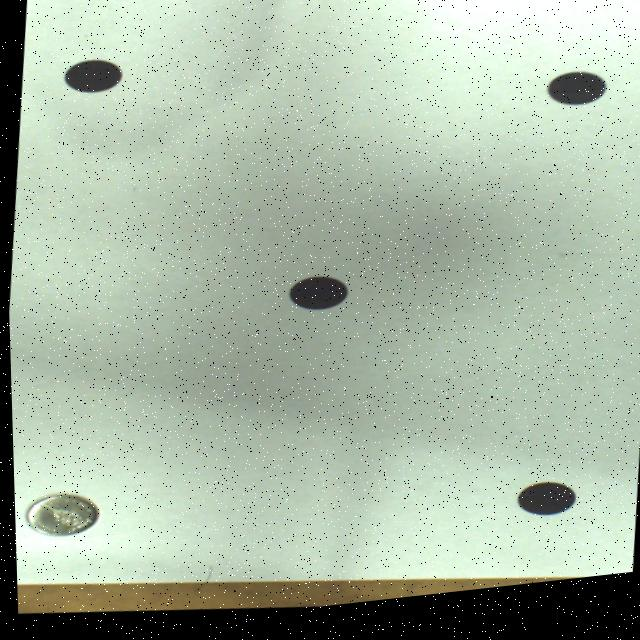space: (546, 84, 604, 118), (514, 493, 571, 526), (64, 61, 122, 93), (287, 283, 345, 315)
tail1bath: (24, 495, 94, 536)
